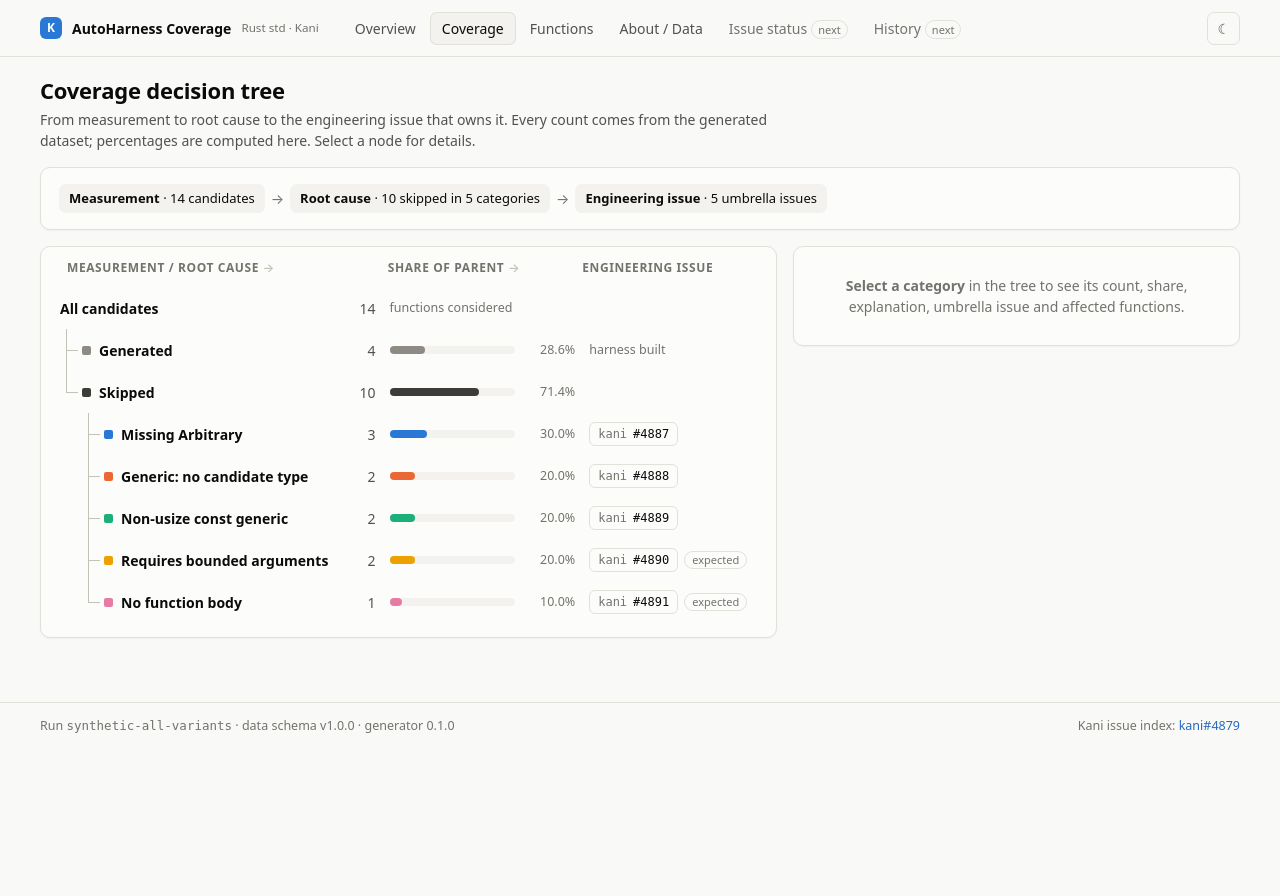
it: Coverage › opens a detail panel with issue link and affected-functions link
Click the button with test id "node-const_generic_unsupported".
click(409, 518)  # box [51,497,766,539]
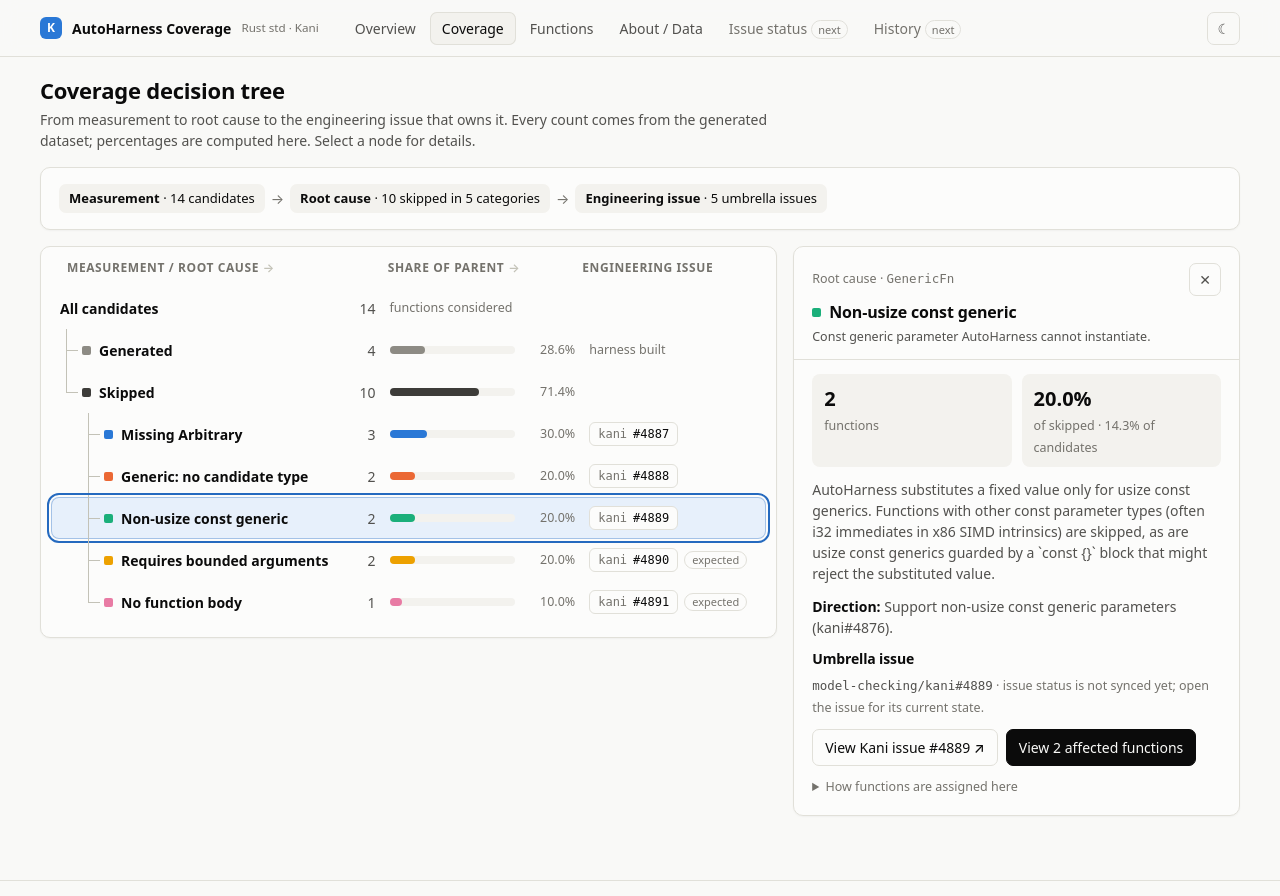
Expected: the element with test id "detail-panel" shows "Non-usize const generic", [829,301,1016,323]
Expected: the text with test id "detail-count" reads "2", [824,385,836,412]
Expected: the text with test id "detail-share" reads "20.0%", [1034,385,1092,412]
